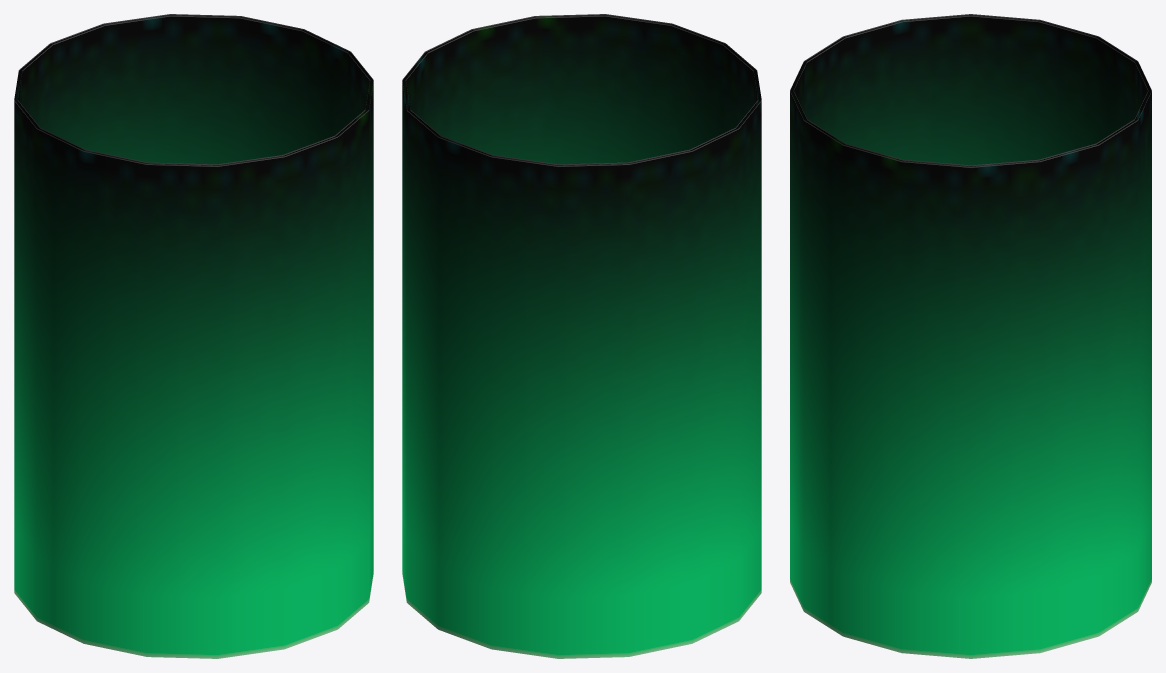
File: PedestrianWalkingTarget.fbx
3 renders of one model, left to right at view 1: azimuth 30°, elevation 25°; view 2: azimuth 150°, elevation 25°; view 3: azimuth 270°, elevation 25°, orthographic.
Visible parts, largest first — view 1: Circle; view 2: Circle; view 3: Circle.
Part boxes in pixels (x1,y1,x2,y2): Circle: [14, 14, 373, 658]; Circle: [402, 14, 761, 658]; Circle: [790, 14, 1151, 658].
Size of the model in its own units: 100 by 150 by 100.
1 material, 1 textured.
